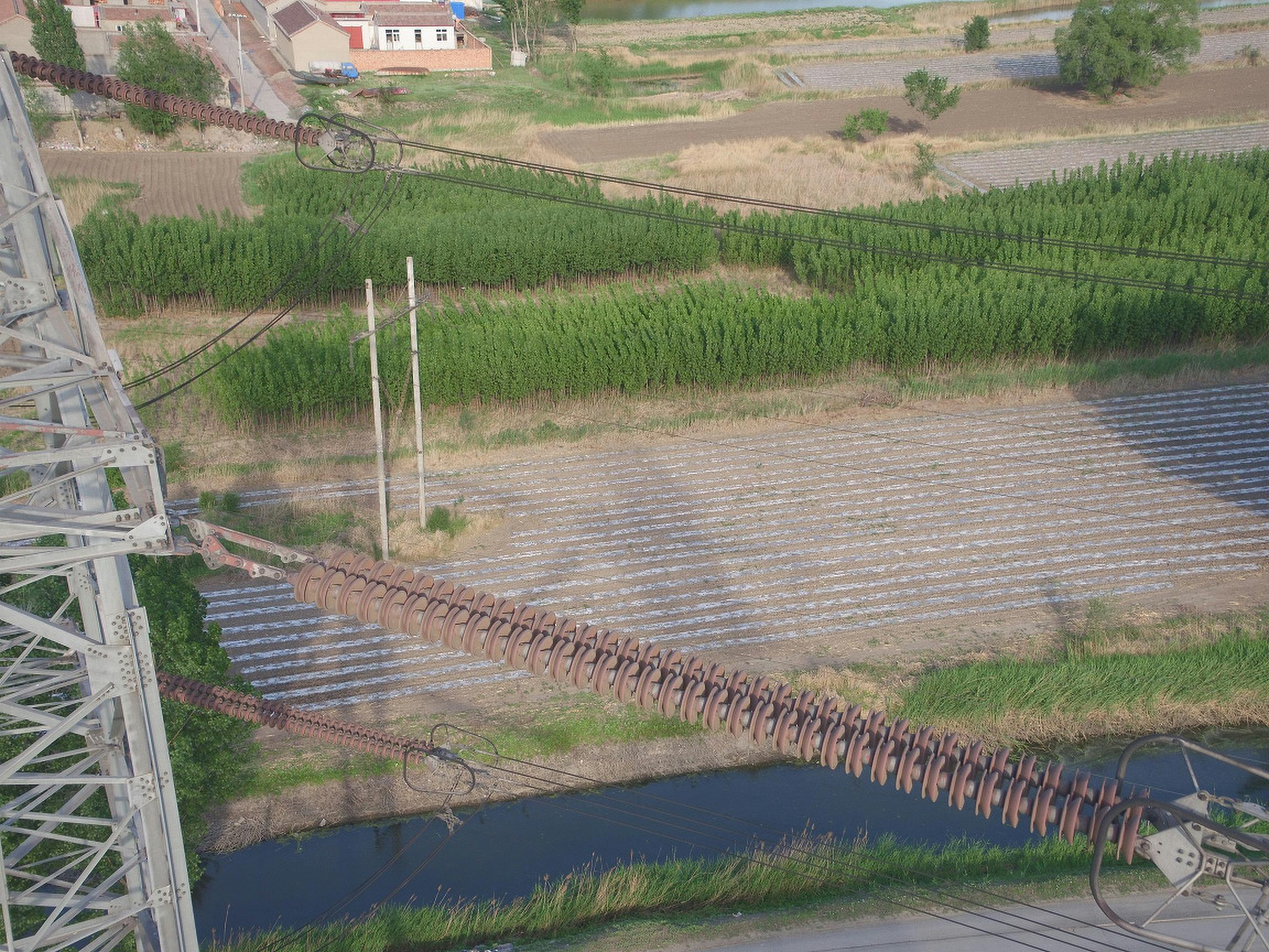insulator: (289, 545, 1155, 869), (8, 48, 327, 149), (153, 668, 440, 767)
